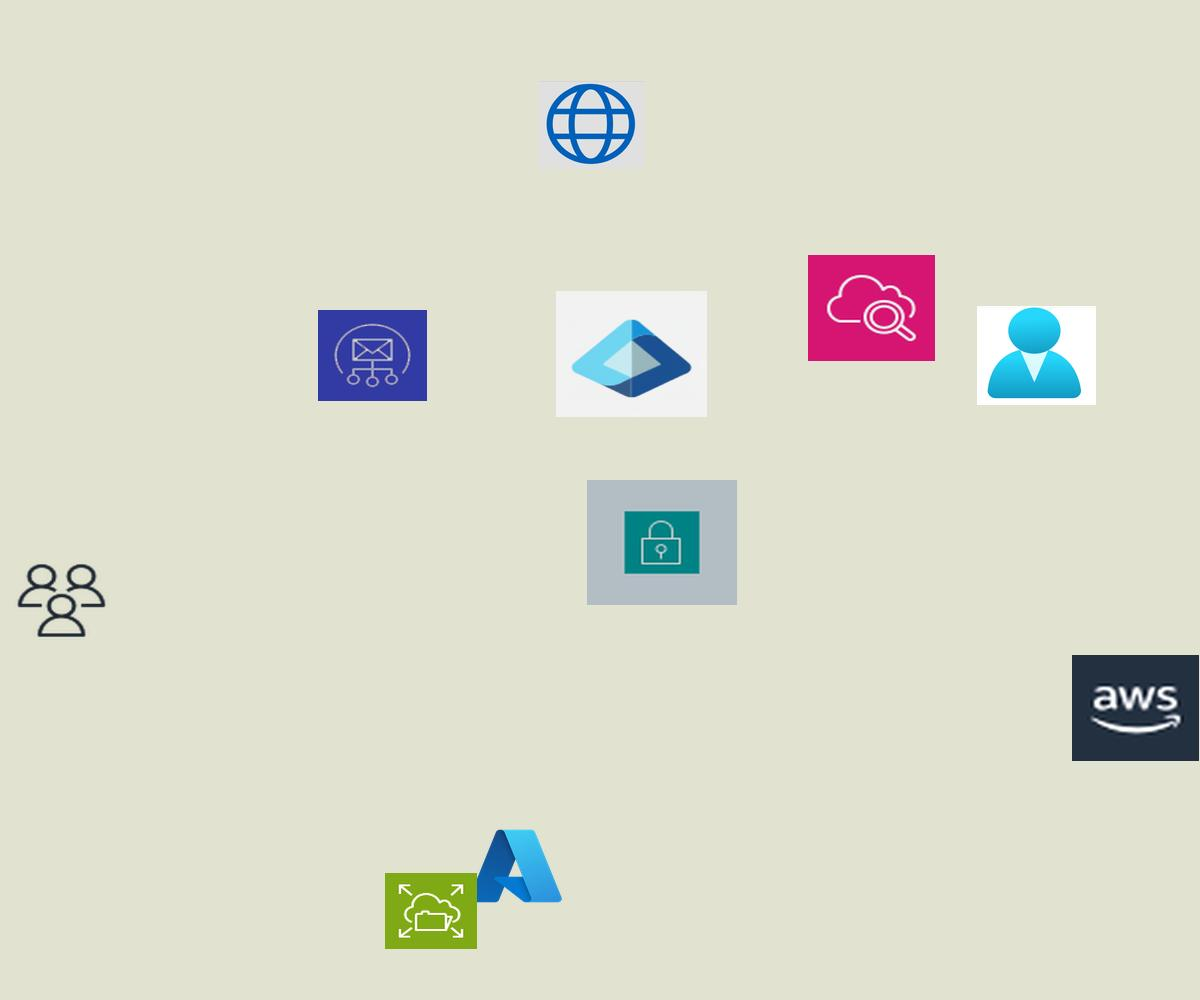AWS-Cloud-logo: (1072, 655, 1199, 761)
AWS-CloudWatch: (808, 255, 935, 361)
AWS-EFS: (385, 873, 477, 949)
AWS-Private-subnet: (587, 480, 737, 605)
AWS-Res_Users: (14, 561, 109, 640)
AWS-Simple-Email-Service: (318, 310, 427, 401)
Azure_http: (538, 81, 644, 169)
Azure_microsoft_entra: (556, 291, 707, 417)
Azure_services: (465, 824, 566, 908)
Azure_users: (977, 306, 1096, 405)
